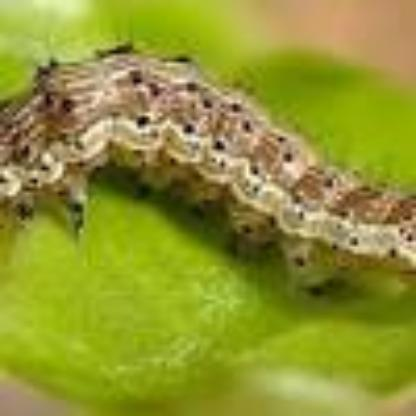oruga: (0, 48, 416, 294)
